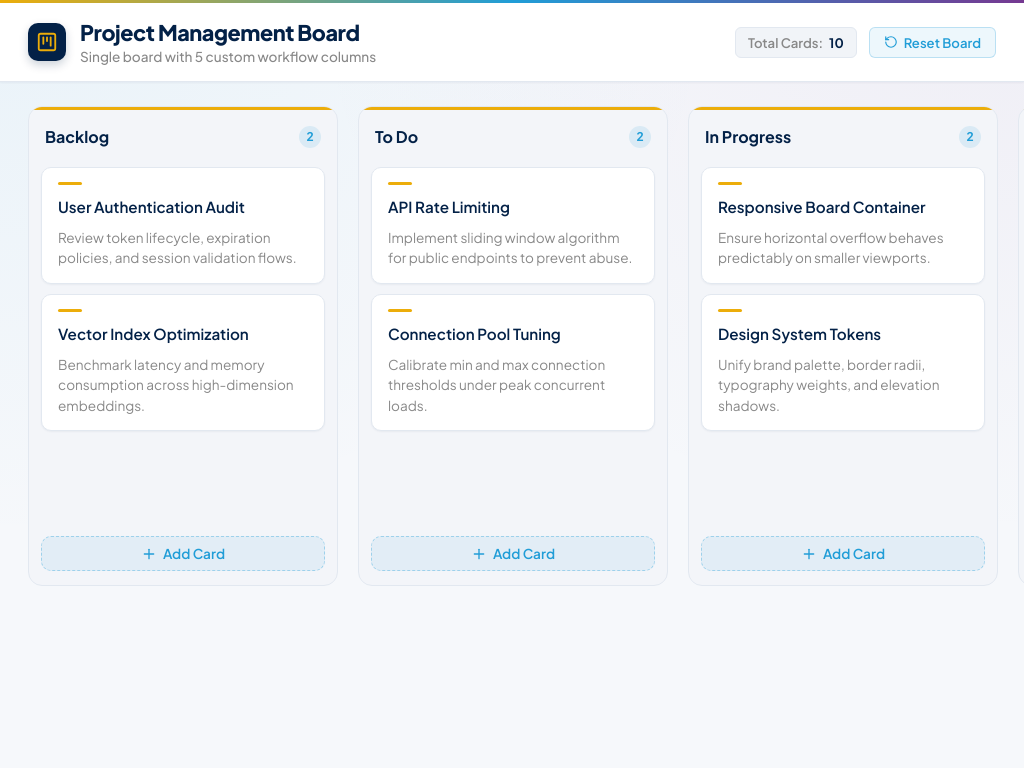
Test case: KanbanBoard Component › allows renaming a column
Click to edit
Click the heading with test id "column-title-col-1" at [77, 136], box [45,126,109,147]
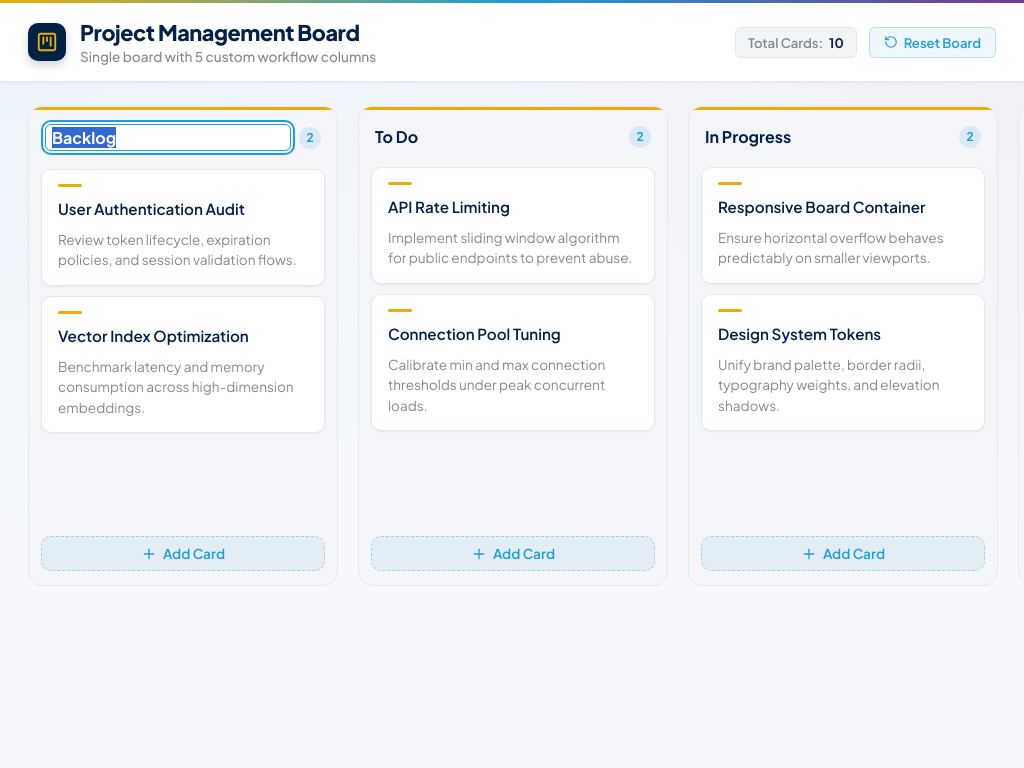
Result: the field with test id "column-title-input-col-1" is shown
Change value and submit via Enter
Replace the text in the field with test id "column-title-input-col-1" with "Ideas & Discovery" at [168, 138], box [45,124,291,151]
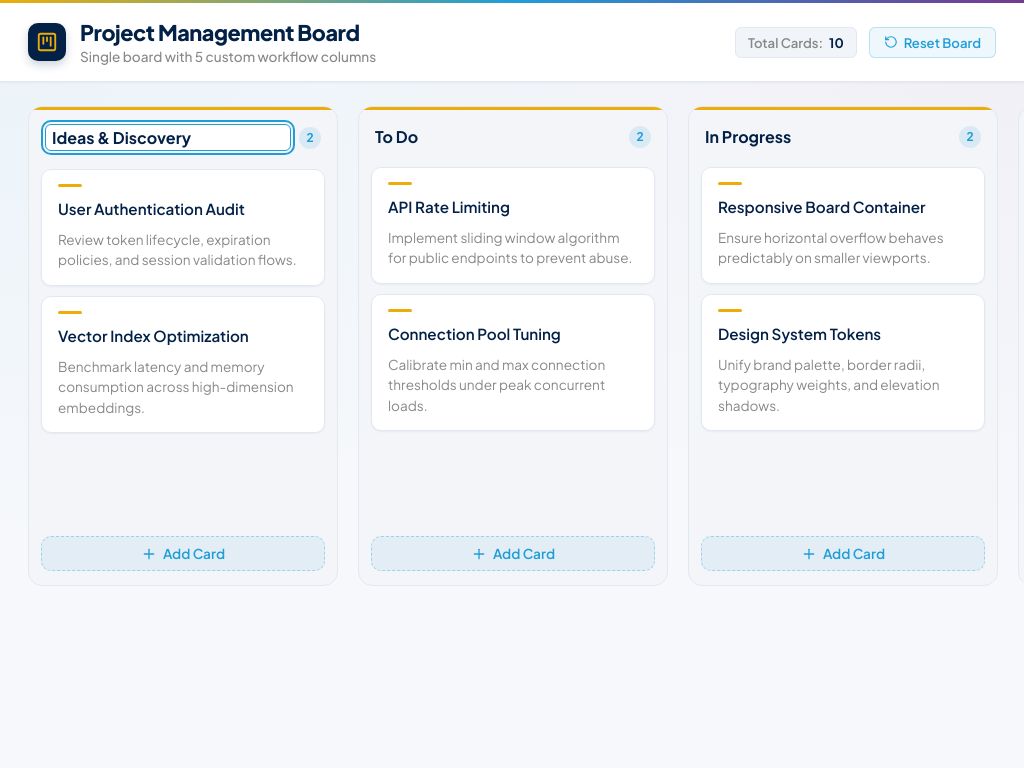
Press Enter in the field with test id "column-title-input-col-1", box [45,124,291,151]
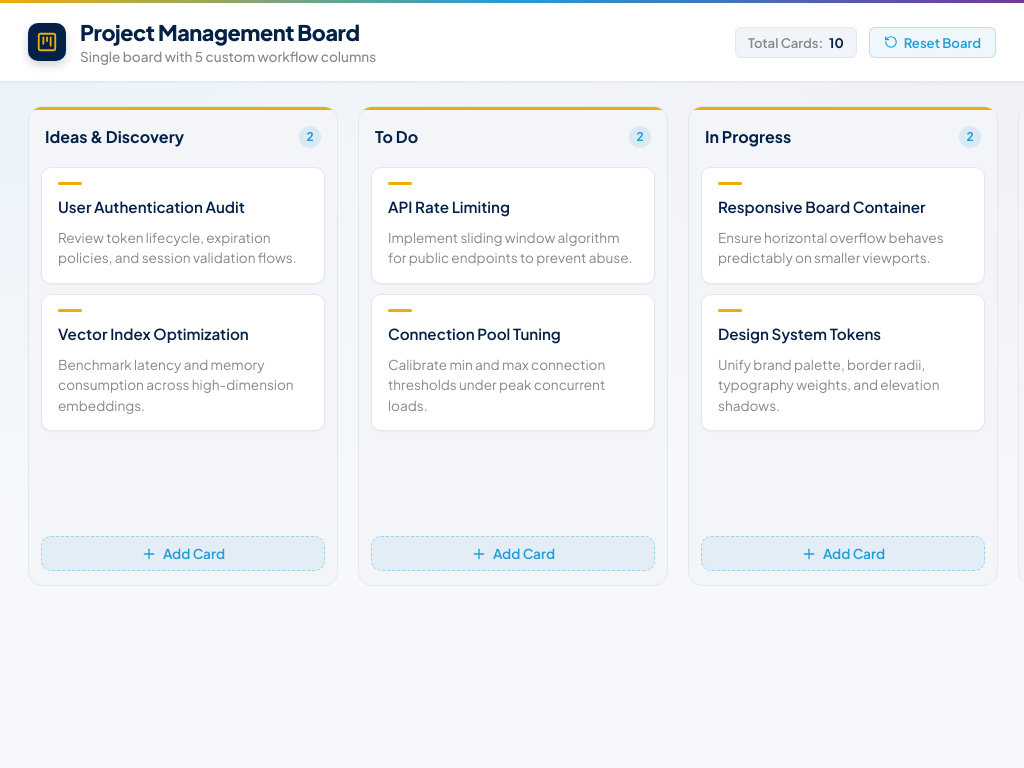
Result: the heading with test id "column-title-col-1" reads "Ideas & Discovery" at [45,126,184,147]
